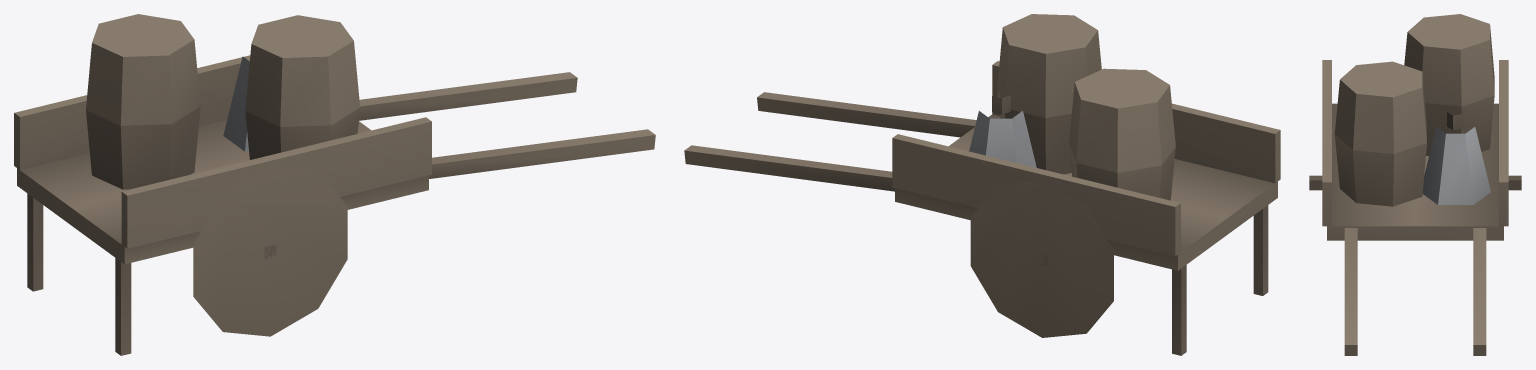
The model's file is sg_cart.glb.
3 views of the same model, side by side, from view 1: azimuth 30°, elevation 25°; view 2: azimuth 150°, elevation 25°; view 3: azimuth 270°, elevation 25° (orthographic). The views are drawn at different scales.
Visible parts, largest first — view 1: sg_cart_SG_Joinery, sg_cart_SG_Stone; view 2: sg_cart_SG_Joinery, sg_cart_SG_Stone; view 3: sg_cart_SG_Joinery, sg_cart_SG_Stone.
Boxes of the visible parts, x1=… form: sg_cart_SG_Joinery: x1=14, y1=14, x2=655, y2=355; sg_cart_SG_Stone: x1=223, y1=56, x2=249, y2=151; sg_cart_SG_Joinery: x1=684, y1=14, x2=1280, y2=355; sg_cart_SG_Stone: x1=969, y1=111, x2=1036, y2=167; sg_cart_SG_Joinery: x1=1309, y1=14, x2=1521, y2=355; sg_cart_SG_Stone: x1=1422, y1=127, x2=1490, y2=204.
Size of the model in its own units: 3.2 by 1.4 by 1.32.
